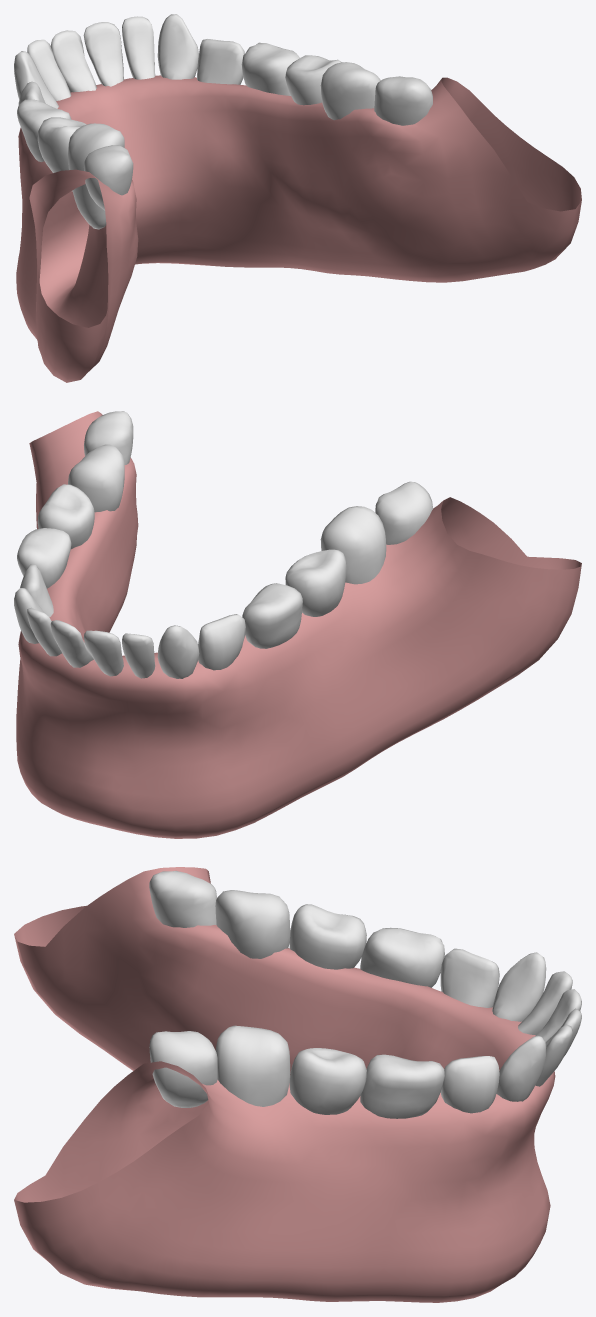
The model's file is Body.fbx.
3 renders of one model, top to bottom at view 1: azimuth 30°, elevation 25°; view 2: azimuth 150°, elevation 25°; view 3: azimuth 270°, elevation 25°, orthographic. The views are drawn at different scales.
Parts seen in each view (by area): view 1: Body; view 2: Body; view 3: Body.
Part boxes in pixels (x1,y1,x2,y2): Body: [14, 14, 581, 382]; Body: [14, 411, 581, 838]; Body: [14, 867, 581, 1302].
Size of the model in its own units: 458 by 221 by 382.
